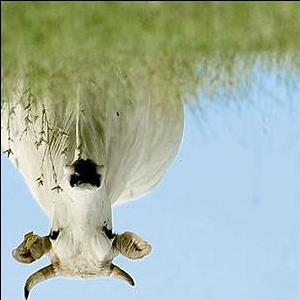cow: (1, 62, 185, 300)
